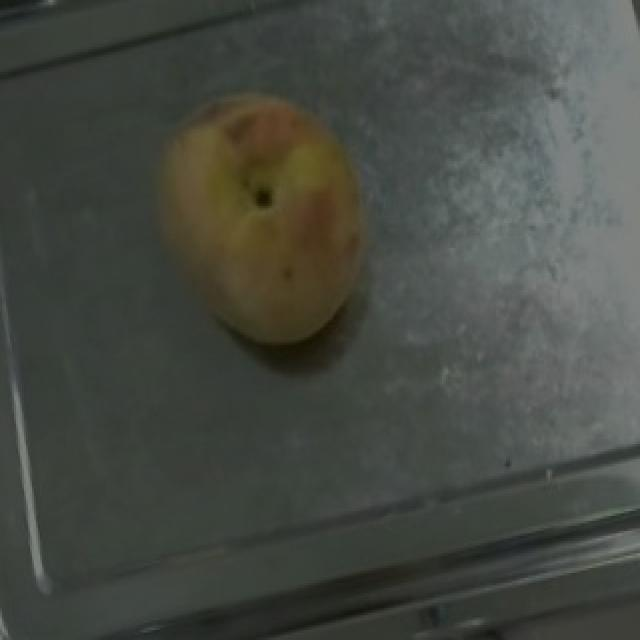Fruit: (118, 55, 414, 377)
